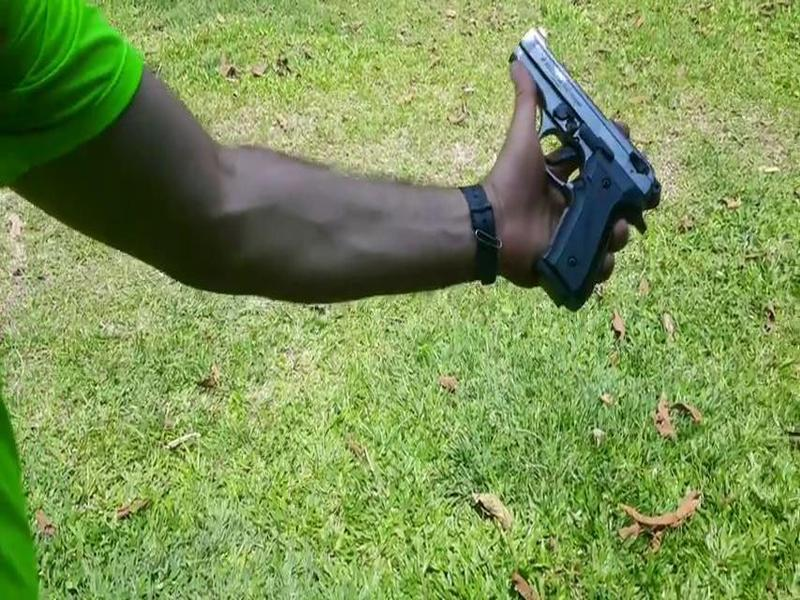Pistola: (481, 19, 666, 318)
